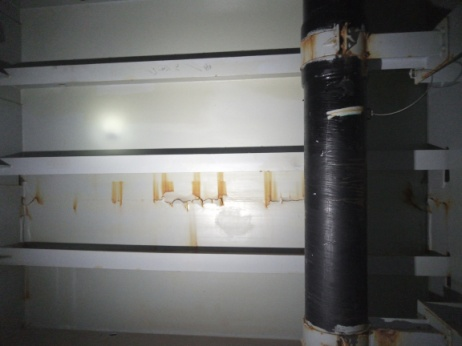corrosion: (258, 170, 285, 202), (148, 171, 174, 202), (295, 32, 319, 59), (211, 175, 229, 198), (186, 173, 201, 197), (101, 184, 123, 200), (30, 188, 49, 206), (68, 195, 81, 210)
